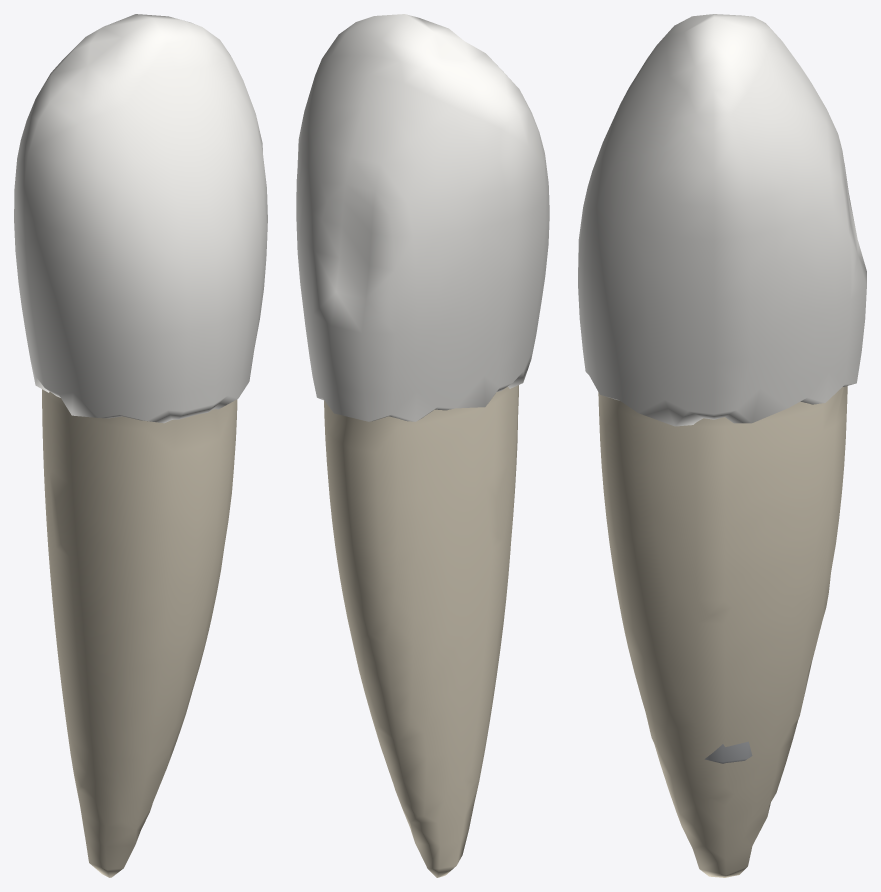
3 renders of one model, left to right at view 1: azimuth 30°, elevation 25°; view 2: azimuth 150°, elevation 25°; view 3: azimuth 270°, elevation 25°, orthographic. The views are drawn at different scales.
Parts seen in each view (by area): view 1: crown, root; view 2: crown, root; view 3: crown, root, implant.
Part boxes in pixels (left/top/right/bottom): crown: left=14, top=14, right=267, bottom=423; root: left=42, top=389, right=237, bottom=877; crown: left=296, top=14, right=549, bottom=421; root: left=324, top=385, right=518, bottom=877; crown: left=578, top=14, right=866, bottom=426; root: left=598, top=386, right=847, bottom=877; implant: left=704, top=741, right=752, bottom=763.
Bounding box in the file's own units: 7.67 × 27.34 × 8.11.
